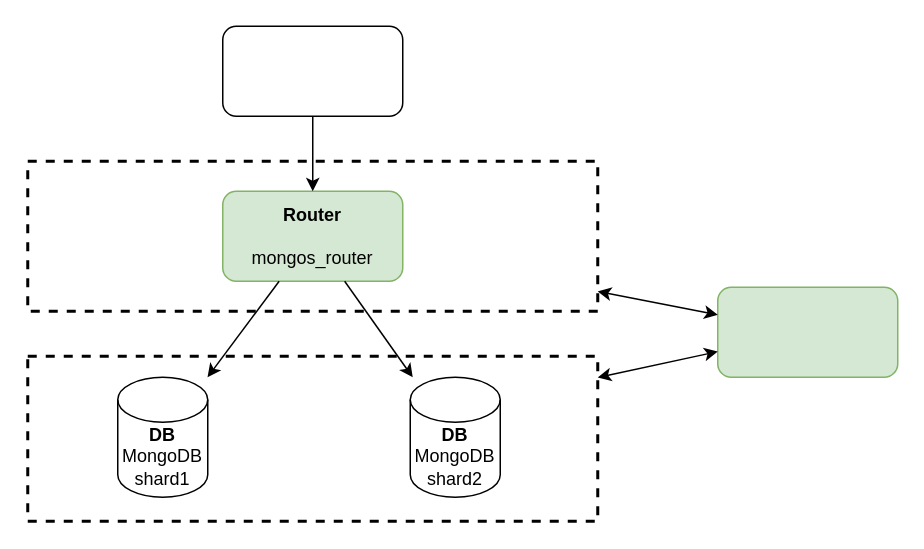
The diagram is 924 pixels wide and 549 high, and some of its shapes have lost their labels. Here are the shapes that lost their labels. From the top down, the box of each, then its label:
(221, 25, 403, 116): microservice pymongo-api
(716, 286, 898, 377): Config Server config_srv
